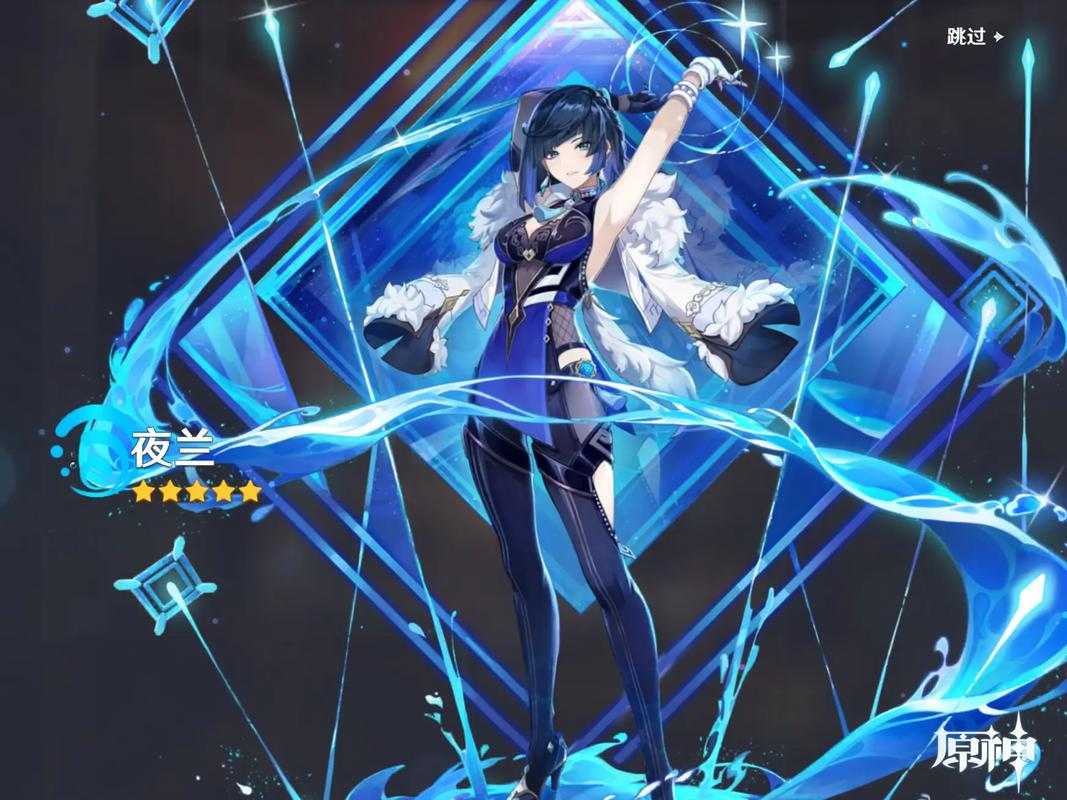夜兰: (459, 45, 752, 795)
